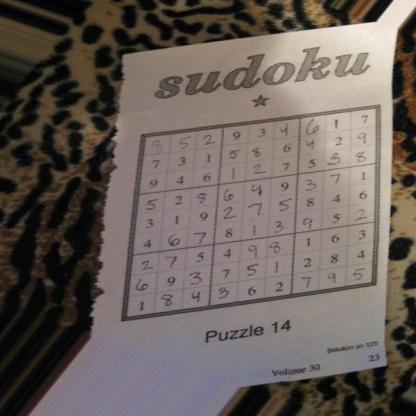sudoku: (117, 100, 385, 324)
